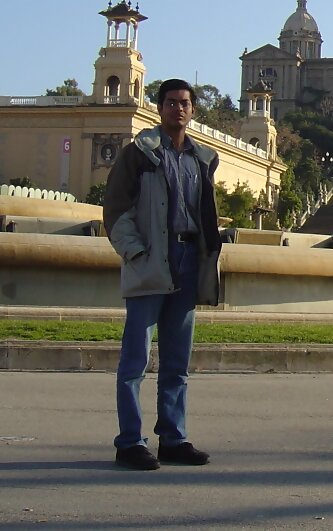person: (108, 75, 224, 475)
